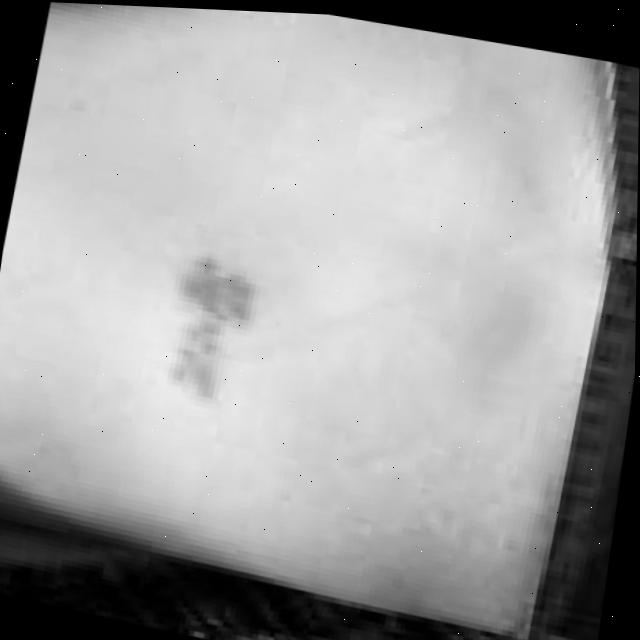Shingles: (162, 258, 261, 400)
